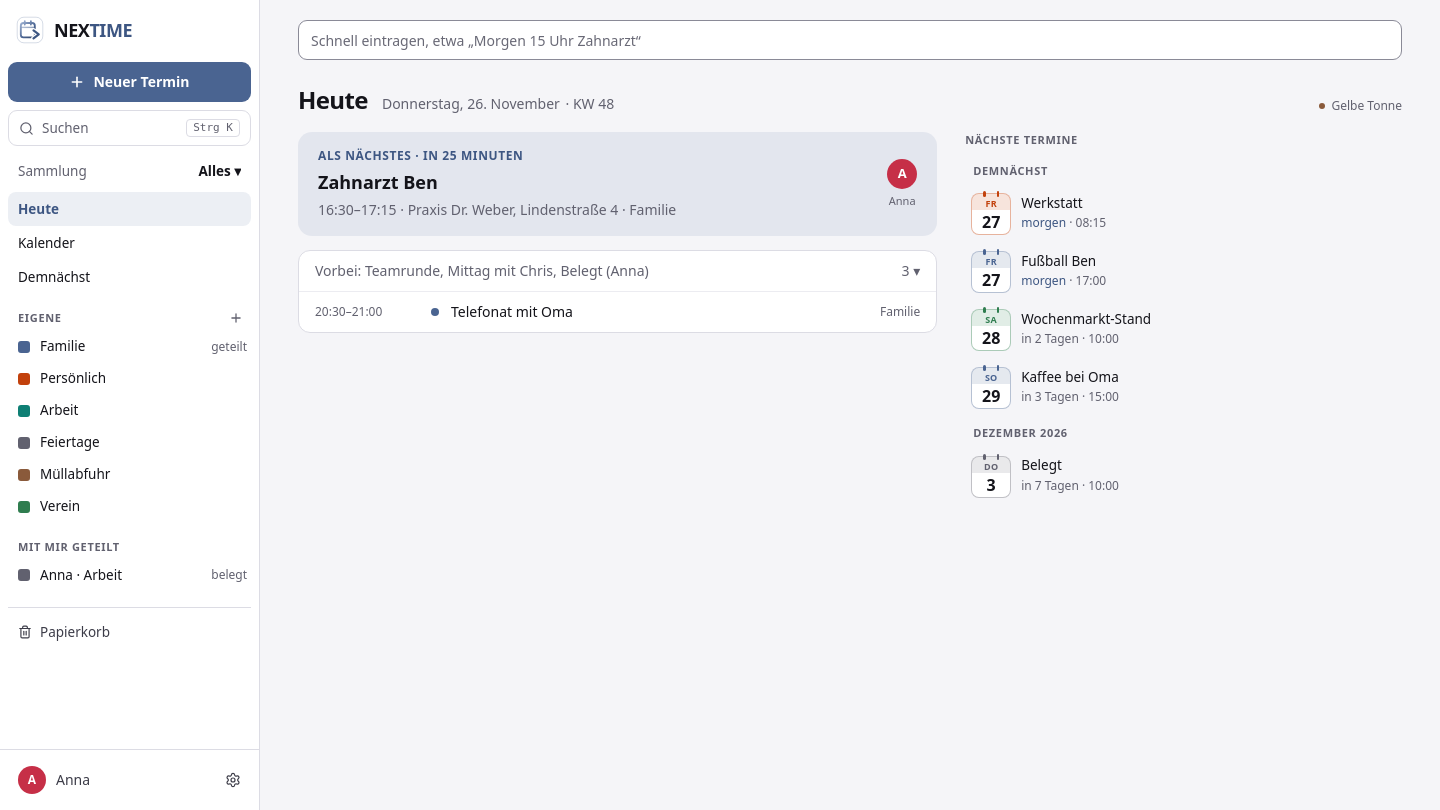
Test: TIME-12 jump date › TIME-12 jump date from "Heute" a day opens as a day
Click the button "Donnerstag, 26. November" at (471, 104), box [380,94,562,114]
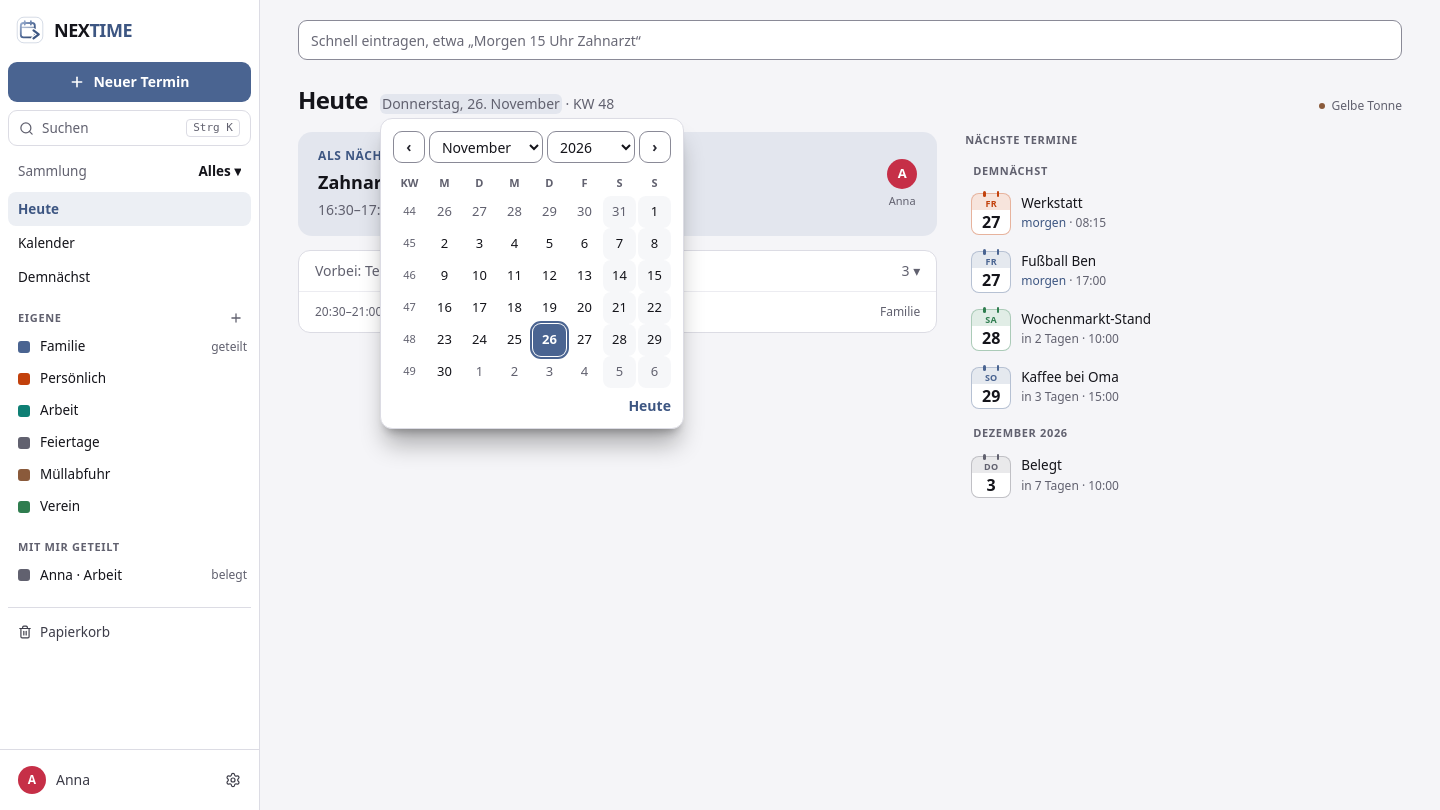
Click the cell "30" next to "49" at (444, 372), box [428,356,461,388]
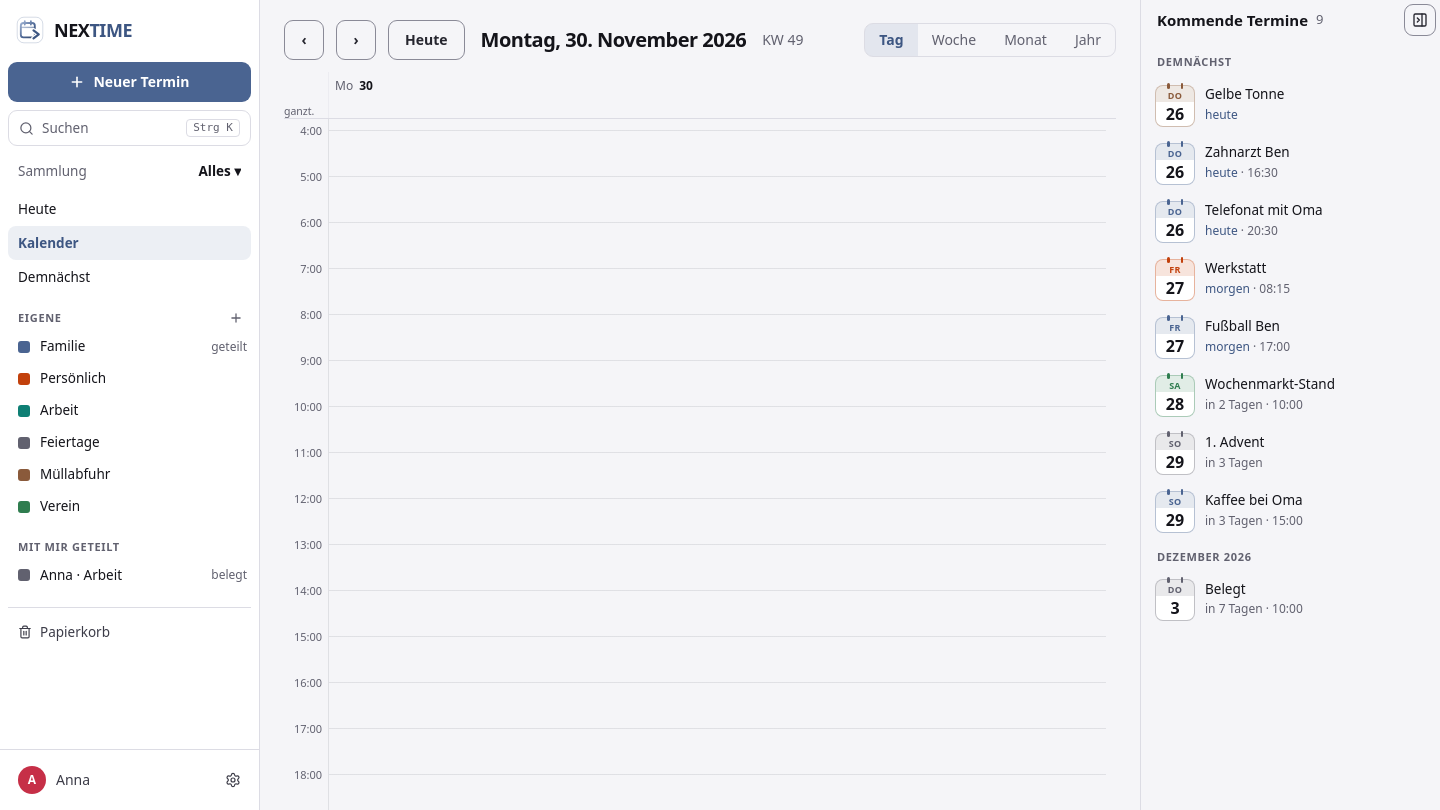
Expected: the button "Montag, 30. November 2026" is shown, [476,26,750,54]
